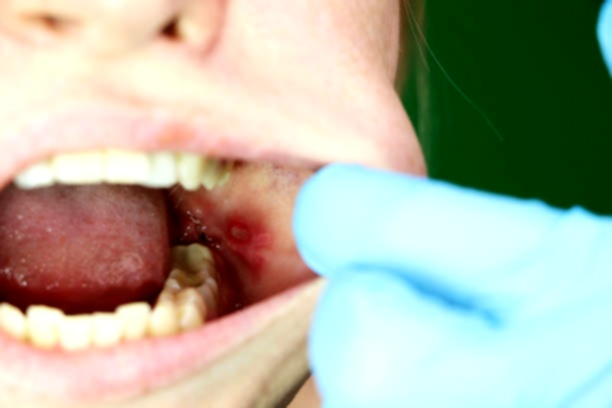Ulcer: (228, 218, 257, 250)
